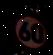Speed Limit -60-: (4, 5, 53, 55)
